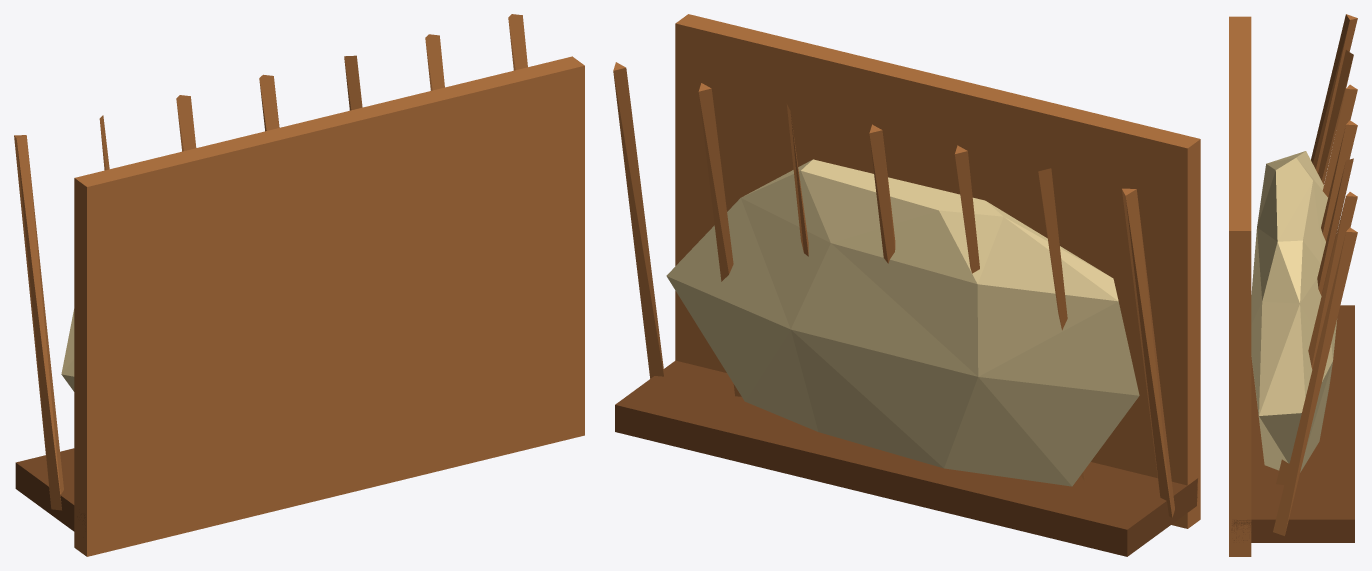
File: hay_rack.fbx
3 views of the same model, side by side, from view 1: azimuth 30°, elevation 25°; view 2: azimuth 150°, elevation 25°; view 3: azimuth 270°, elevation 25° (orthographic). The views are drawn at different scales.
Visible parts, largest first — view 1: hay_rack; view 2: hay_rack; view 3: hay_rack.
Boxes of the visible parts, box(x1,y1,x2,y2) form: hay_rack: box(14, 14, 584, 556); hay_rack: box(613, 14, 1200, 556); hay_rack: box(1229, 14, 1357, 556).
Bounding box in the file's own units: 2 × 1.4 × 0.5.
